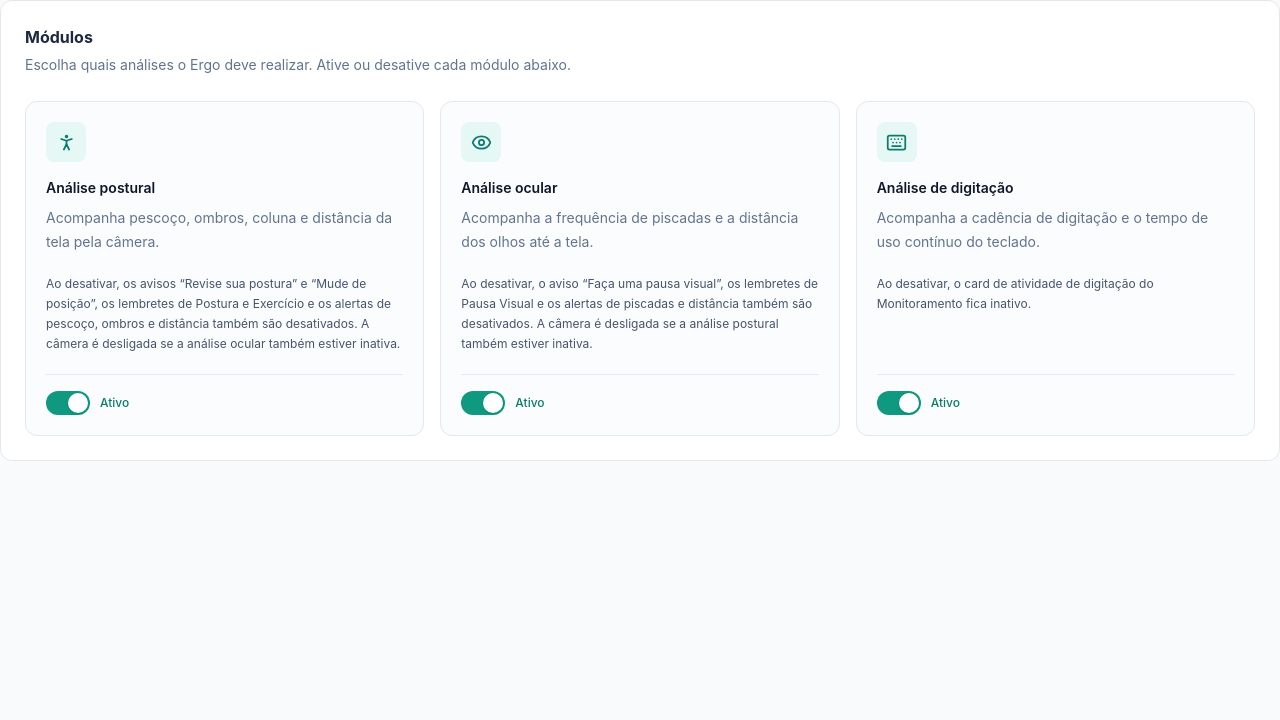
Test: Configurações → Módulos › restaura o estado anterior e informa o erro quando a gravação falha
The image size is (1280, 720).
Step 1. Click the 2nd switch labelled "Ativo" → (508, 403), box x1=461 y1=391 x2=555 y2=415
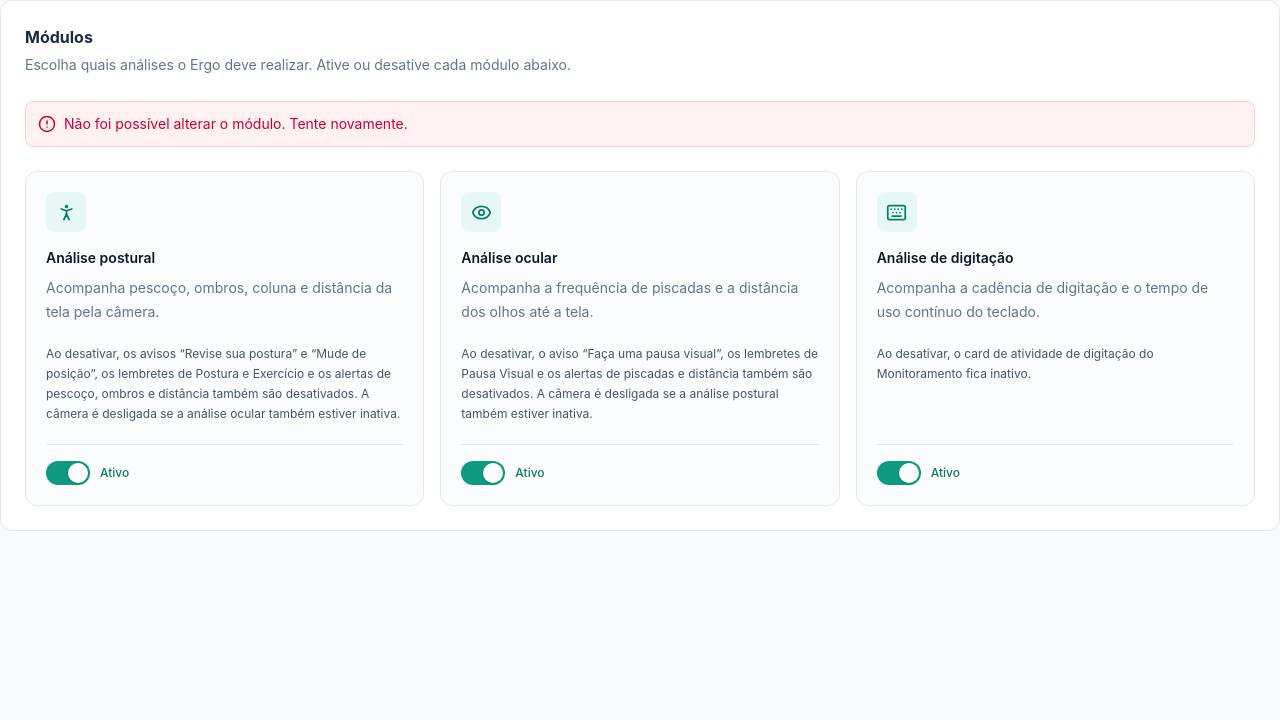
Check: the message "Não foi possível alterar o módulo. Tente novamente." is shown, box x1=25 y1=101 x2=1255 y2=147
